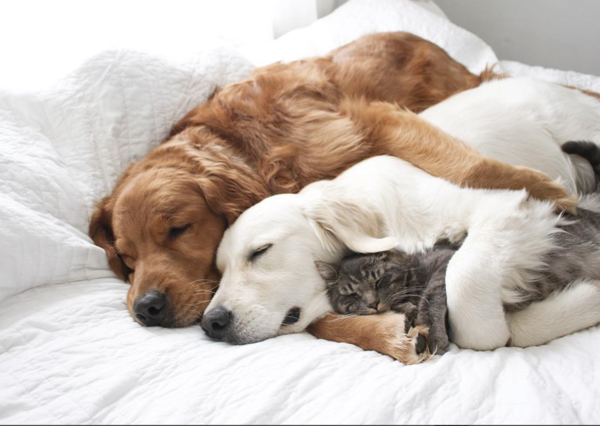cat: (309, 230, 420, 319)
dog: (82, 159, 272, 332), (195, 188, 402, 346)
